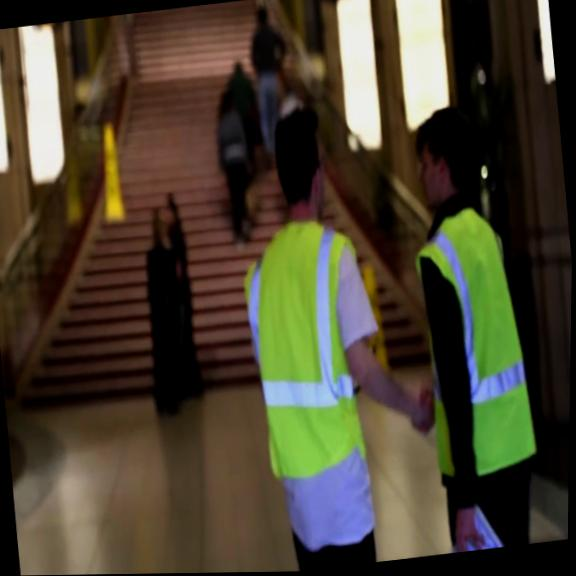safety_vest: (407, 201, 544, 488), (233, 218, 383, 480)
